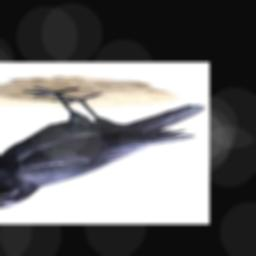Crow: (0, 85, 206, 209)
